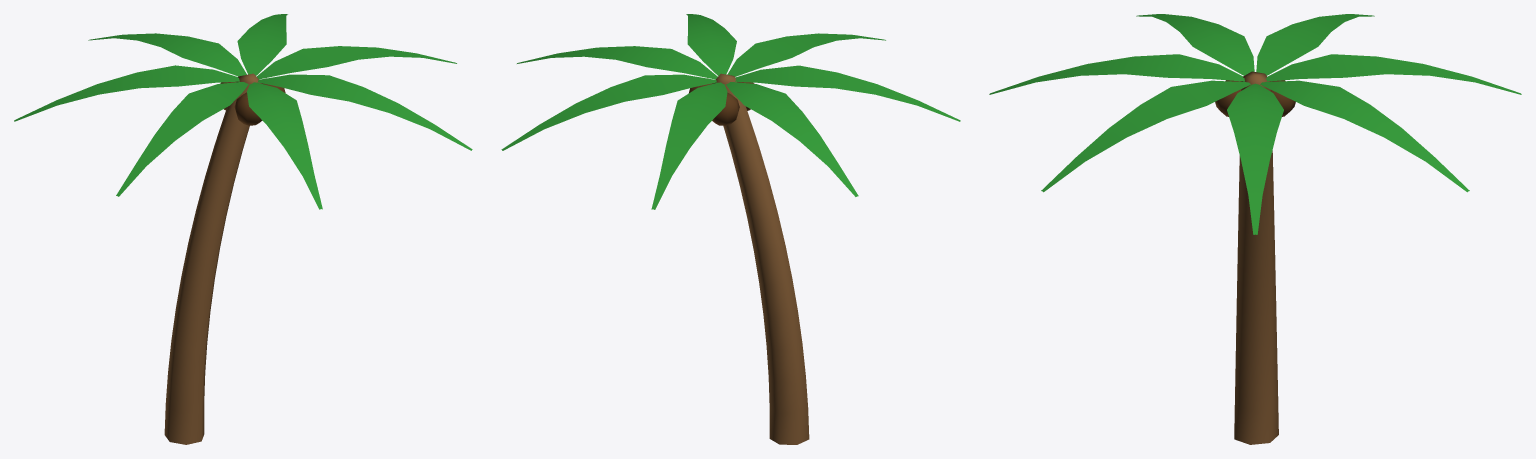
File: palmera.obj
The picture shows the model from 3 angles, left to right: view 1: azimuth 30°, elevation 25°; view 2: azimuth 150°, elevation 25°; view 3: azimuth 270°, elevation 25°; orthographic projection. The views are drawn at different scales.
Parts seen in each view (by area): view 1: Palmera; view 2: Palmera; view 3: Palmera.
Boxes of the visible parts, x1,y1,x2,y2 form: Palmera: [14, 14, 472, 444]; Palmera: [501, 14, 960, 444]; Palmera: [989, 14, 1521, 444].
Size of the model in its own units: 2.66 by 2.29 by 2.73.
